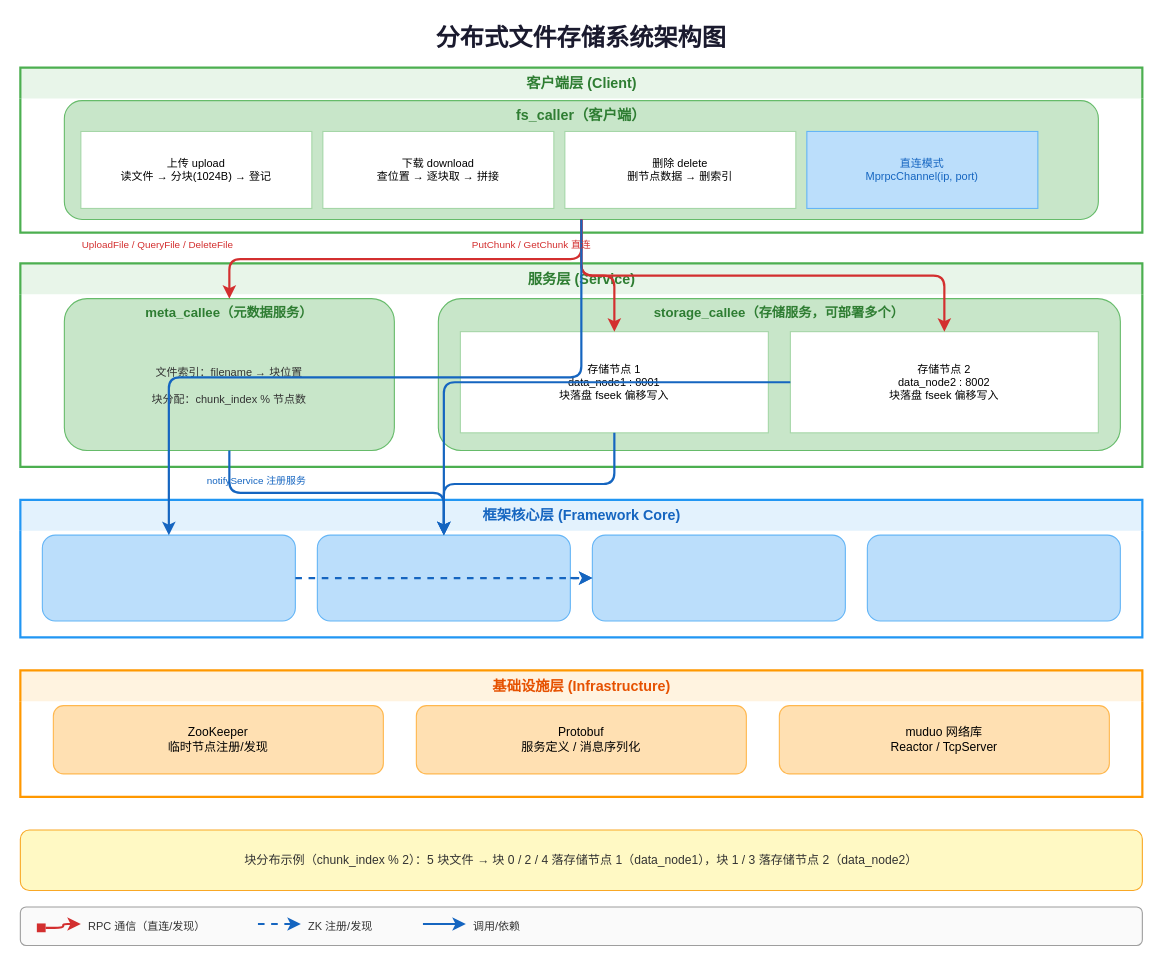
The diagram is 1162 pixels wide and 965 high, and some of its shapes have lost their labels. Here are the shapes that lost their labels. From the top down, the centre of each, then its label:
[168,577]: MprpcChannel 直连 + ZooKeeper 发现双模式
[443,577]: RpcProvider muduo TcpServer 请求分发到 Service
[718,577]: ZKClient ZooKeeper C API 封装 create / getChildren
[993,577]: Logger（异步日志） 独立写线程 + LockQueue 批量 drain 落盘
